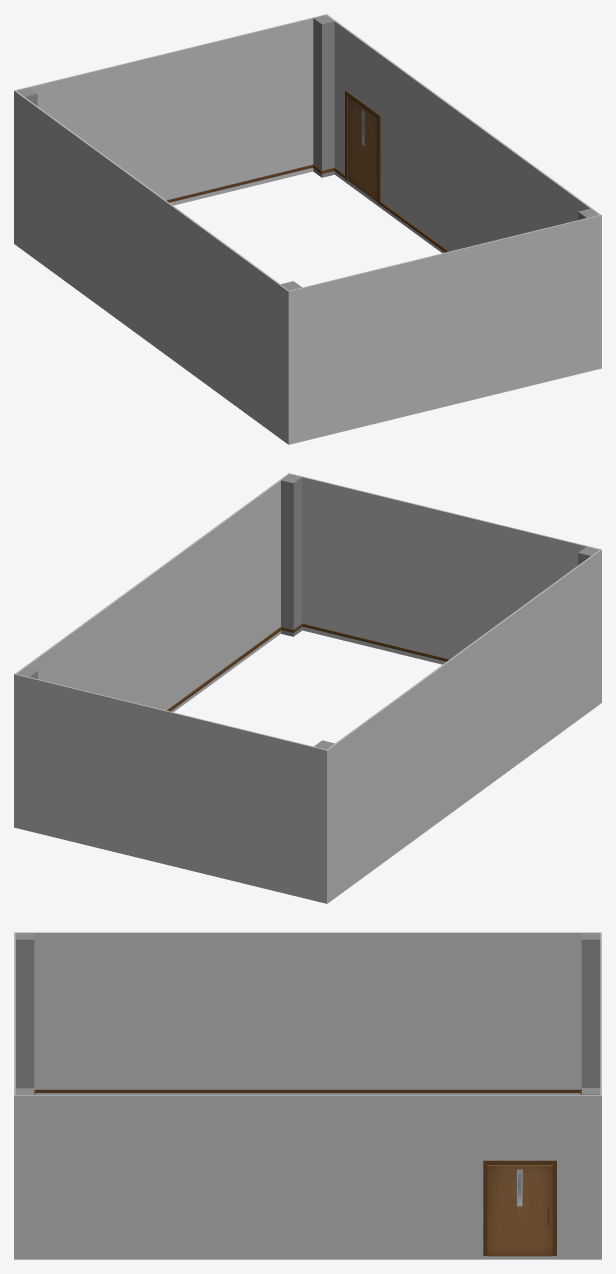
The model's file is _wall01.fbx.
3 renders of one model, top to bottom at view 1: azimuth 30°, elevation 25°; view 2: azimuth 150°, elevation 25°; view 3: azimuth 270°, elevation 25°, orthographic. The views are drawn at different scales.
Parts seen in each view (by area): view 1: Cube.091, Cube.090, Cube.050, Cube.089, Cube.034, Cube.080, Cube.028; view 2: Cube.050, Cube.090, Cube.091, Cube.089, Cube.051; view 3: Cube.089, Cube.090, Cube.080, Cube.049, Cube.052, Cube.093, Cube.028, Cube.050, Cube.091.
Part boxes in pixels (x1=…): Cube.091: x1=288, y1=214, x2=601, y2=444; Cube.090: x1=14, y1=91, x2=288, y2=444; Cube.050: x1=14, y1=14, x2=327, y2=243; Cube.089: x1=326, y1=15, x2=600, y2=253; Cube.034: x1=313, y1=15, x2=334, y2=177; Cube.080: x1=348, y1=97, x2=377, y2=201; Cube.028: x1=345, y1=90, x2=380, y2=204; Cube.050: x1=14, y1=673, x2=327, y2=903; Cube.090: x1=327, y1=549, x2=601, y2=903; Cube.091: x1=288, y1=473, x2=601, y2=664; Cube.089: x1=15, y1=474, x2=288, y2=712; Cube.051: x1=281, y1=474, x2=301, y2=636; Cube.089: x1=15, y1=1095, x2=600, y2=1259; Cube.090: x1=15, y1=932, x2=600, y2=1094; Cube.080: x1=487, y1=1165, x2=552, y2=1256; Cube.049: x1=581, y1=933, x2=600, y2=1094; Cube.052: x1=16, y1=933, x2=34, y2=1088; Cube.093: x1=35, y1=1089, x2=580, y2=1092; Cube.028: x1=483, y1=1160, x2=556, y2=1255; Cube.050: x1=600, y1=932, x2=601, y2=1259; Cube.091: x1=14, y1=932, x2=15, y2=1259.
Size of the model in its own units: 15531 by 7232 by 23473.
